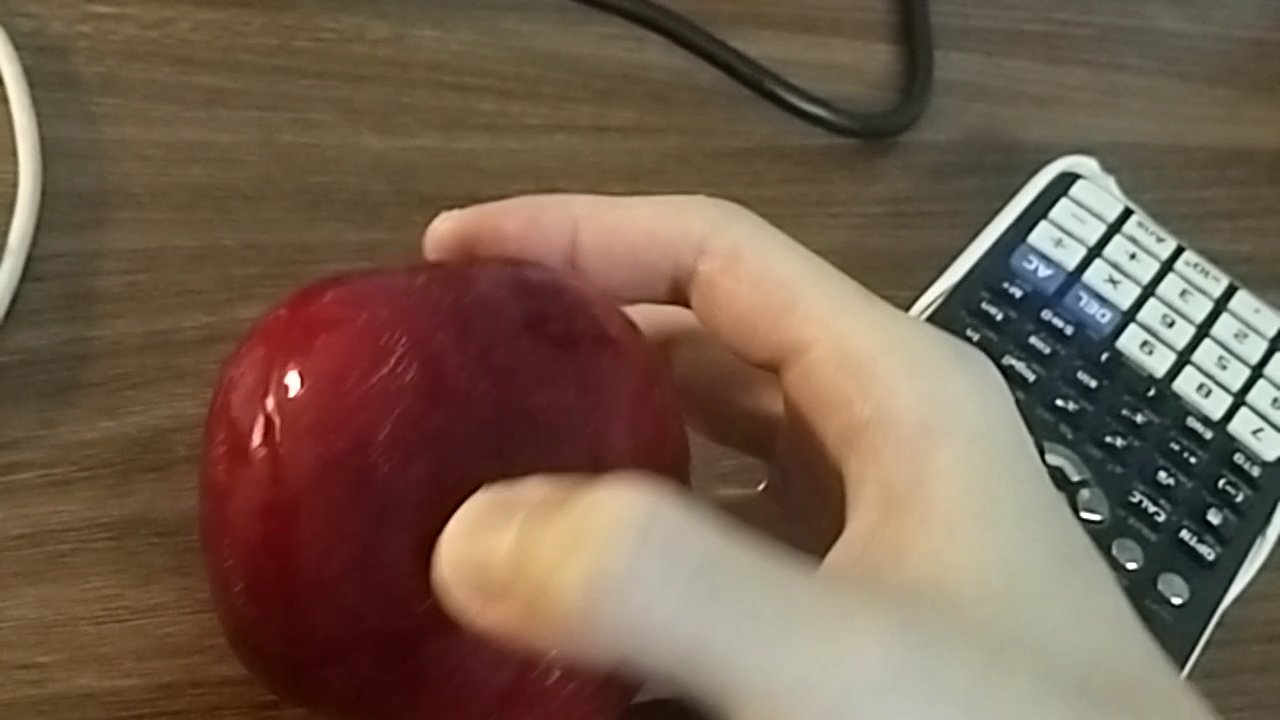apple_fresh: (189, 244, 713, 712)
